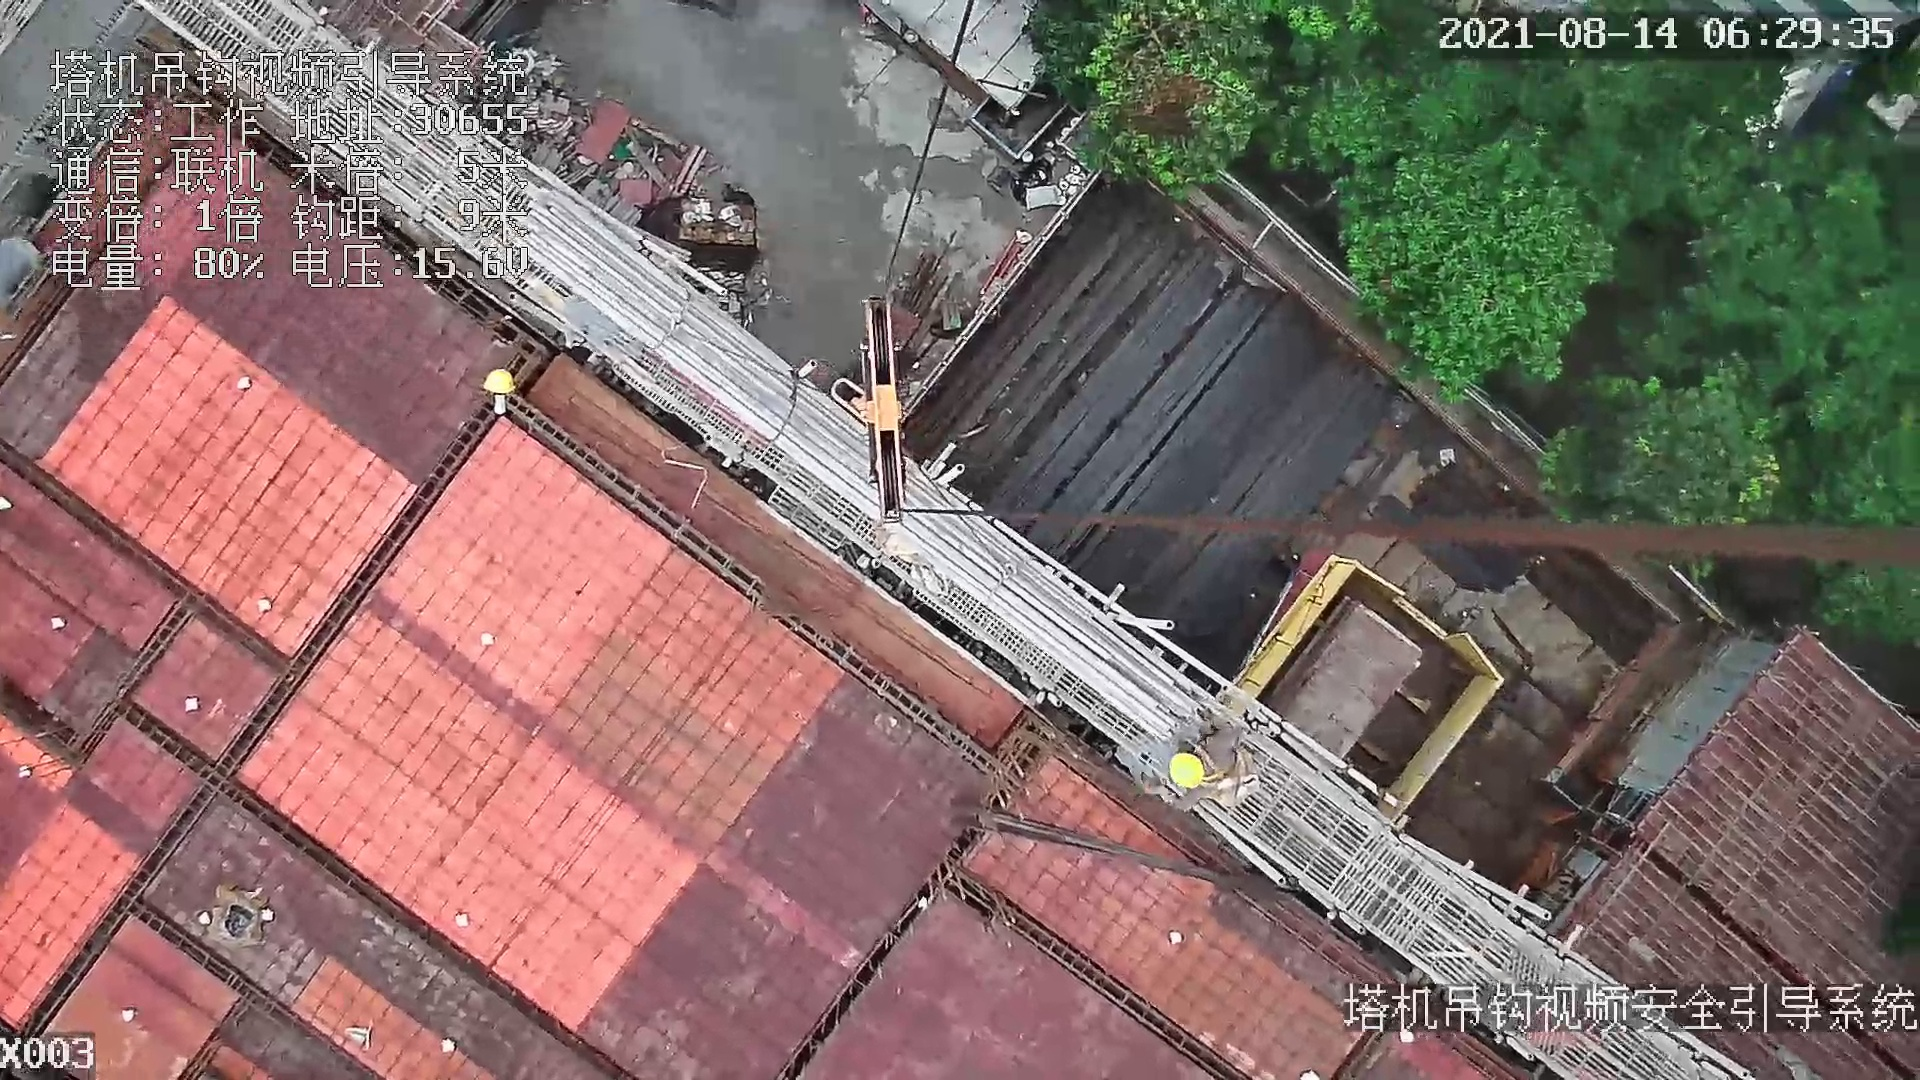helmet: (479, 365, 518, 401), (1168, 751, 1208, 787)
hook: (854, 295, 915, 524)
person: (1146, 723, 1262, 817)
rebar: (919, 226, 1383, 641)
